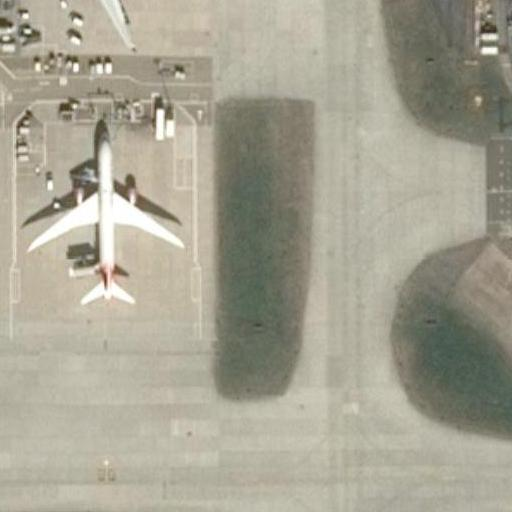Aircraft: (21, 122, 192, 312), (4, 0, 202, 45)
